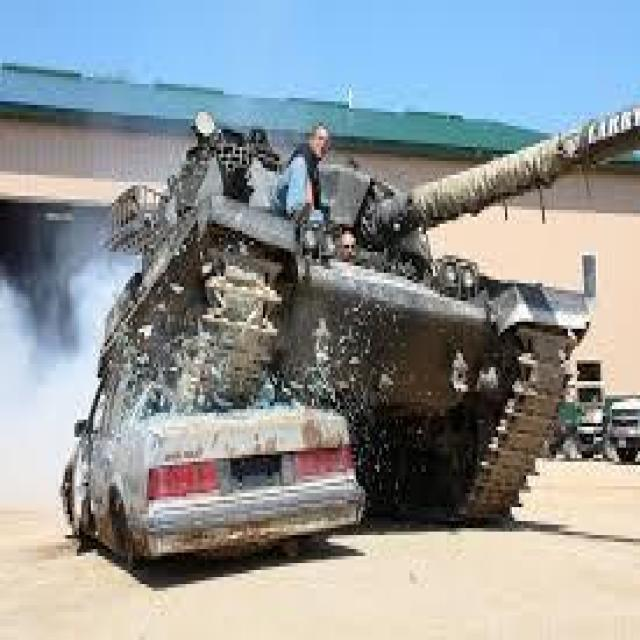MIL_MBT: (98, 114, 586, 372)
